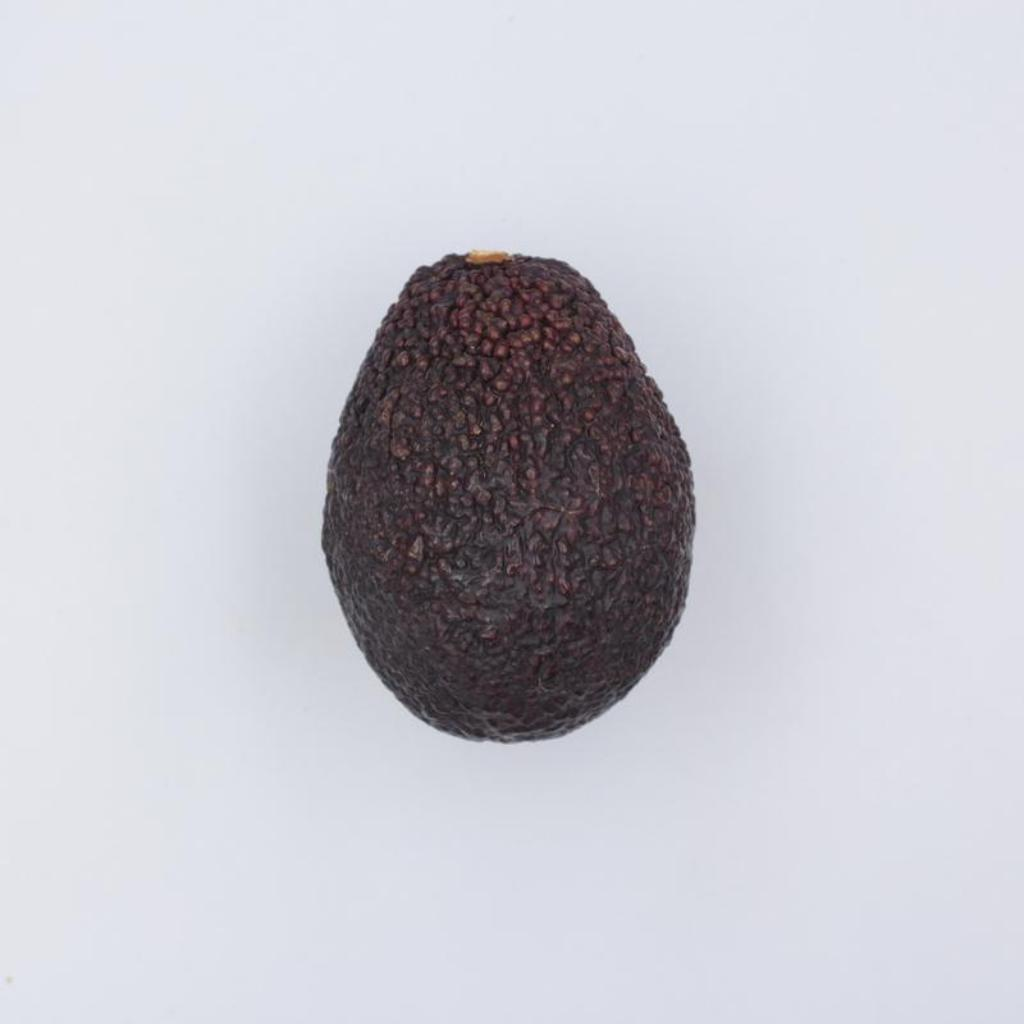antracnosis_fruto: (323, 255, 694, 741)
